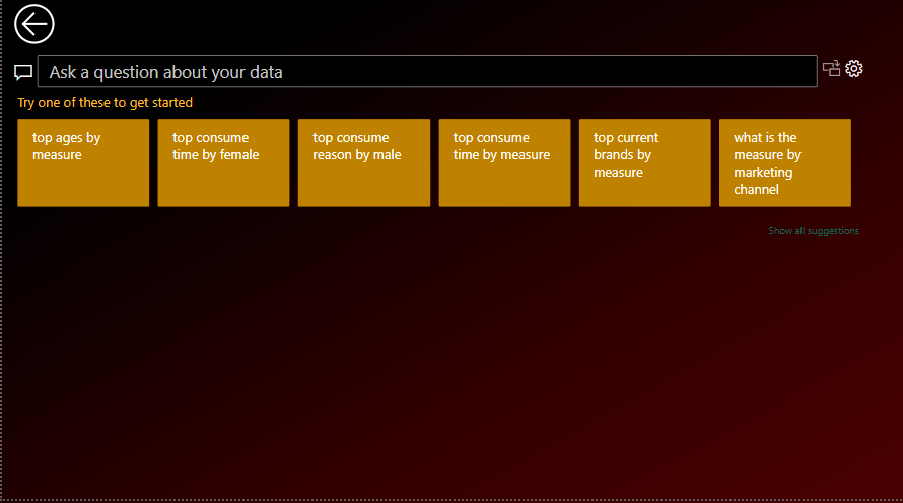

This screenshot's page, from the dashboard's own definition file:
{"tool":"powerbi","page":{"name":"Q & A","canvas":[1280,720],"ordinal":4},"visuals":[{"type":"qnaVisual","title":"Questions And Answers","box":[10,71.7,1220,536.7],"z":0},{"type":"actionButton","box":[10,0,126.7,71.7],"z":1000}]}

Visuals, with their boxes in screenshot pixels (x1, y1, x2, y2), scaled from the page's 1280x720 canvas onto the 903x503 screenshot:
"Questions And Answers" qnaVisual: 7, 50, 868, 425
actionButton: 7, 0, 96, 50
